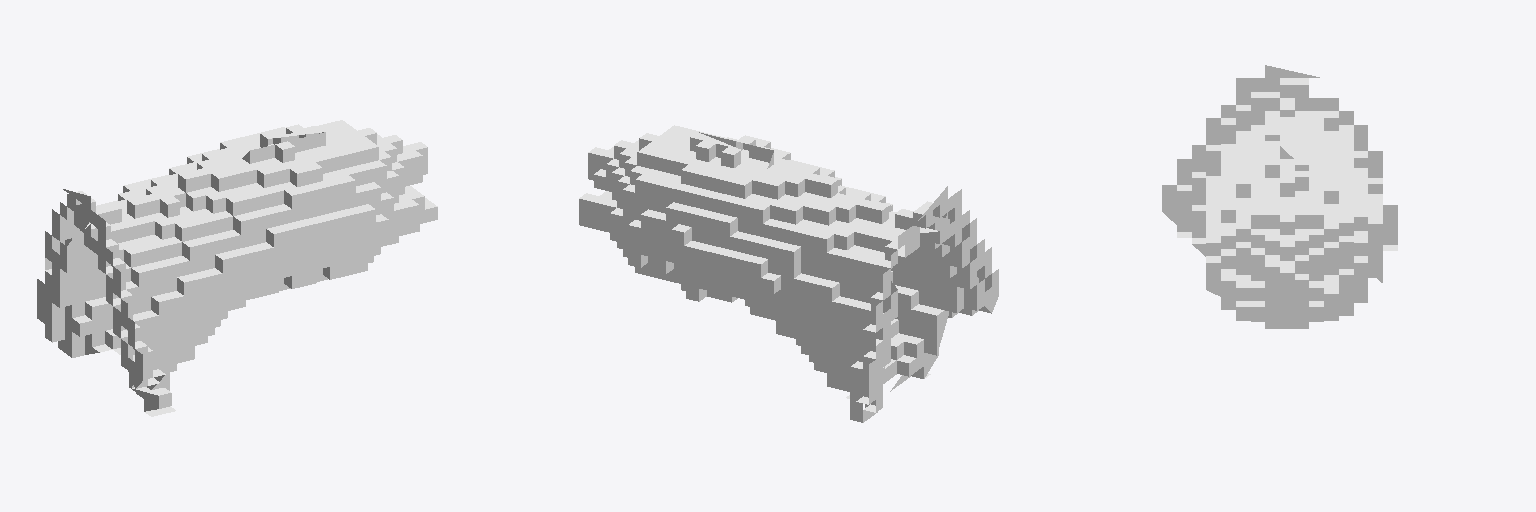
Rendered from DragoniteBrazo.obj.
3 renders of one model, left to right at view 1: azimuth 30°, elevation 25°; view 2: azimuth 150°, elevation 25°; view 3: azimuth 270°, elevation 25°, orthographic.
Visible parts, largest first — view 1: default.001; view 2: default.001; view 3: default.001.
Part boxes in pixels (left/top/right/bottom): default.001: left=37, top=120, right=437, bottom=416; default.001: left=579, top=125, right=998, bottom=422; default.001: left=1162, top=65, right=1397, bottom=328.
Size of the model in its own units: 27 by 16 by 16.